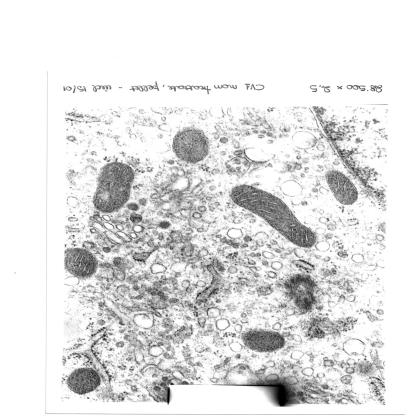mitochondria: (230, 184, 317, 248), (93, 162, 135, 214), (172, 128, 210, 164), (324, 170, 359, 206), (243, 329, 285, 354), (64, 248, 96, 280), (64, 367, 100, 394)
